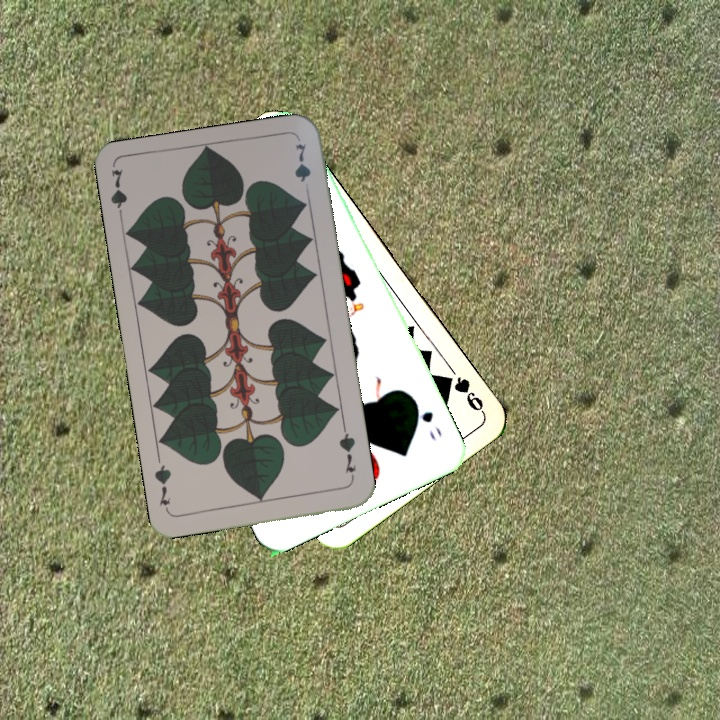G7: (334, 424, 359, 483), (107, 165, 130, 226)
G9: (438, 371, 487, 416)
GO: (409, 396, 445, 443)
